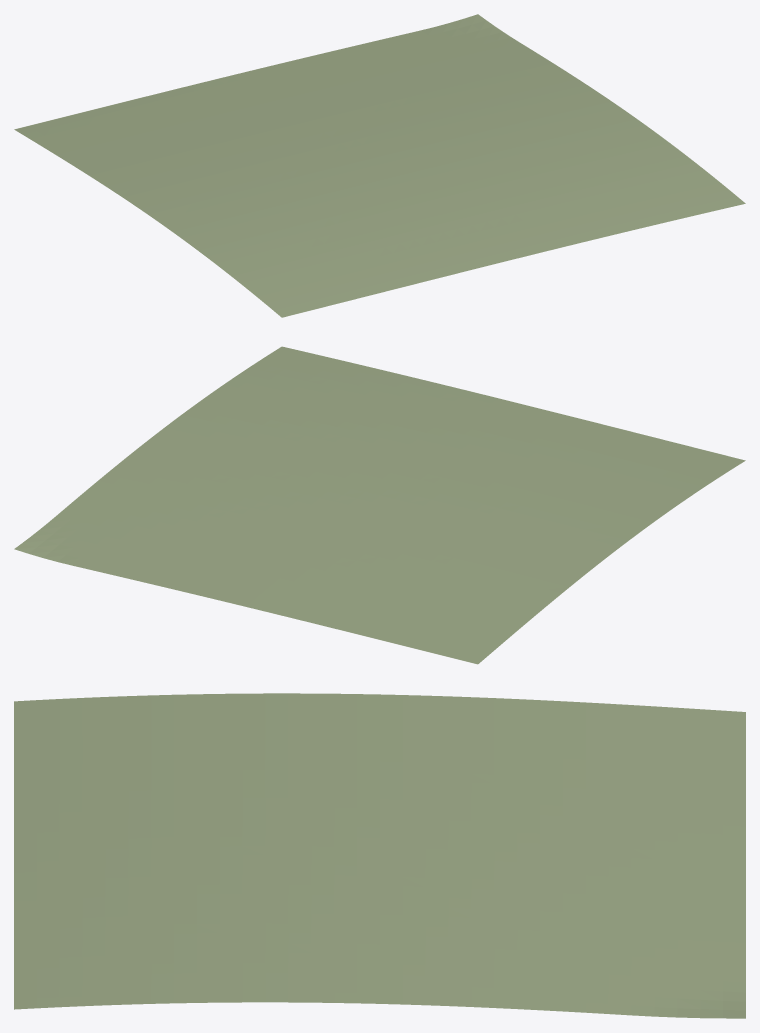
The model's file is desert-23-22.glb.
The picture shows the model from 3 angles, top to bottom: view 1: azimuth 30°, elevation 25°; view 2: azimuth 150°, elevation 25°; view 3: azimuth 270°, elevation 25°; orthographic projection. The views are drawn at different scales.
Visible parts, largest first — view 1: desert-23-22; view 2: desert-23-22; view 3: desert-23-22.
Part boxes in pixels (bbox=[...]): desert-23-22: bbox=[14, 14, 745, 317]; desert-23-22: bbox=[14, 346, 745, 664]; desert-23-22: bbox=[14, 693, 745, 1018].
Size of the model in its own units: 512 by 16.28 by 512.
